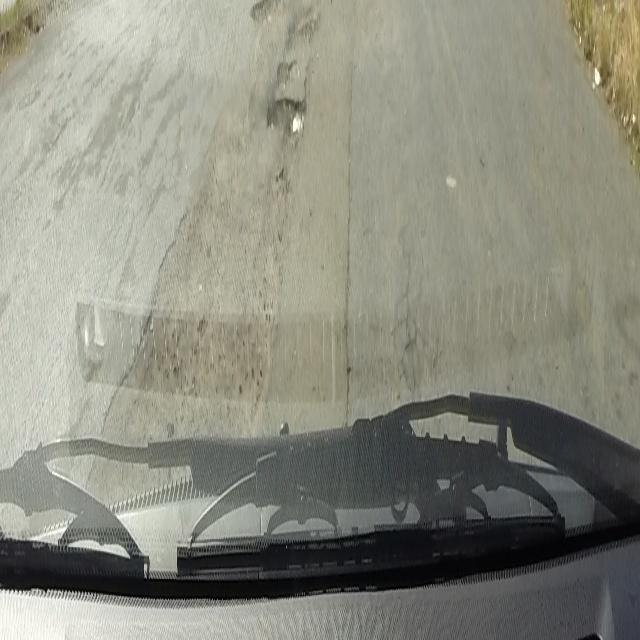pothole: (265, 59, 308, 148), (250, 0, 282, 24), (298, 10, 319, 42)
